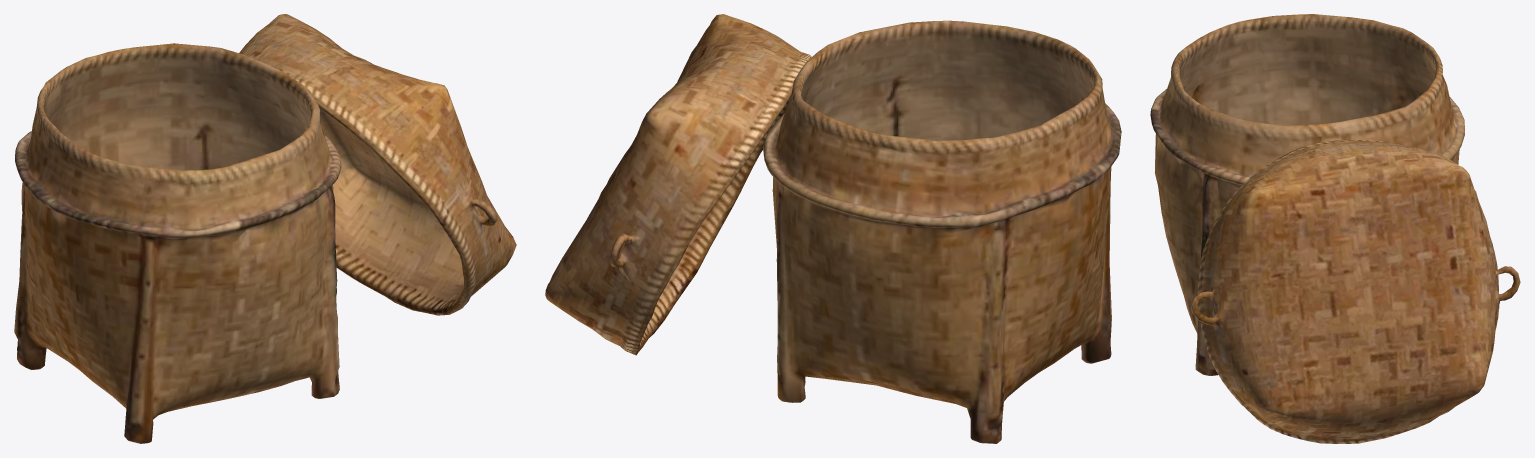
The model's file is wicker_basket_02.glb.
3 renders of one model, left to right at view 1: azimuth 30°, elevation 25°; view 2: azimuth 150°, elevation 25°; view 3: azimuth 270°, elevation 25°, orthographic. The views are drawn at different scales.
Parts seen in each view (by area): view 1: wicker_basket_02_base; view 2: wicker_basket_02_base; view 3: wicker_basket_02_base.
Part boxes in pixels (x1,y1,x2,y2): wicker_basket_02_base: (14,14,516,443); wicker_basket_02_base: (545,14,1121,443); wicker_basket_02_base: (1150,14,1520,443).
Size of the model in its own units: 0.3469 by 0.2005 by 0.2545.
Materials: 1 (1 with a texture image).
